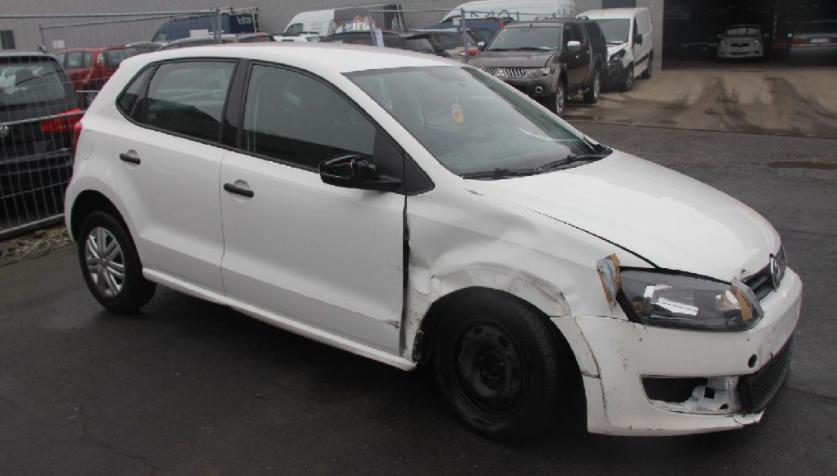Back-door: (114, 59, 245, 290)
Back-wheel: (76, 208, 156, 312)
Back-window: (145, 62, 237, 141), (118, 66, 153, 114)
Fender: (402, 177, 654, 362)
Front-bumper: (553, 266, 801, 436)
Front-door: (221, 61, 406, 356)
Front-wheel: (421, 290, 578, 441)
Grille: (746, 244, 786, 298)
Headlight: (616, 269, 764, 329)
Hood: (468, 150, 783, 282)
Mirror: (319, 154, 399, 190)
Quarter-panel: (64, 100, 155, 267)
Rocker-panel: (143, 268, 418, 372)
Roof: (139, 42, 466, 72)
Tail-light: (71, 122, 81, 163)
Windshield: (346, 66, 605, 180)
